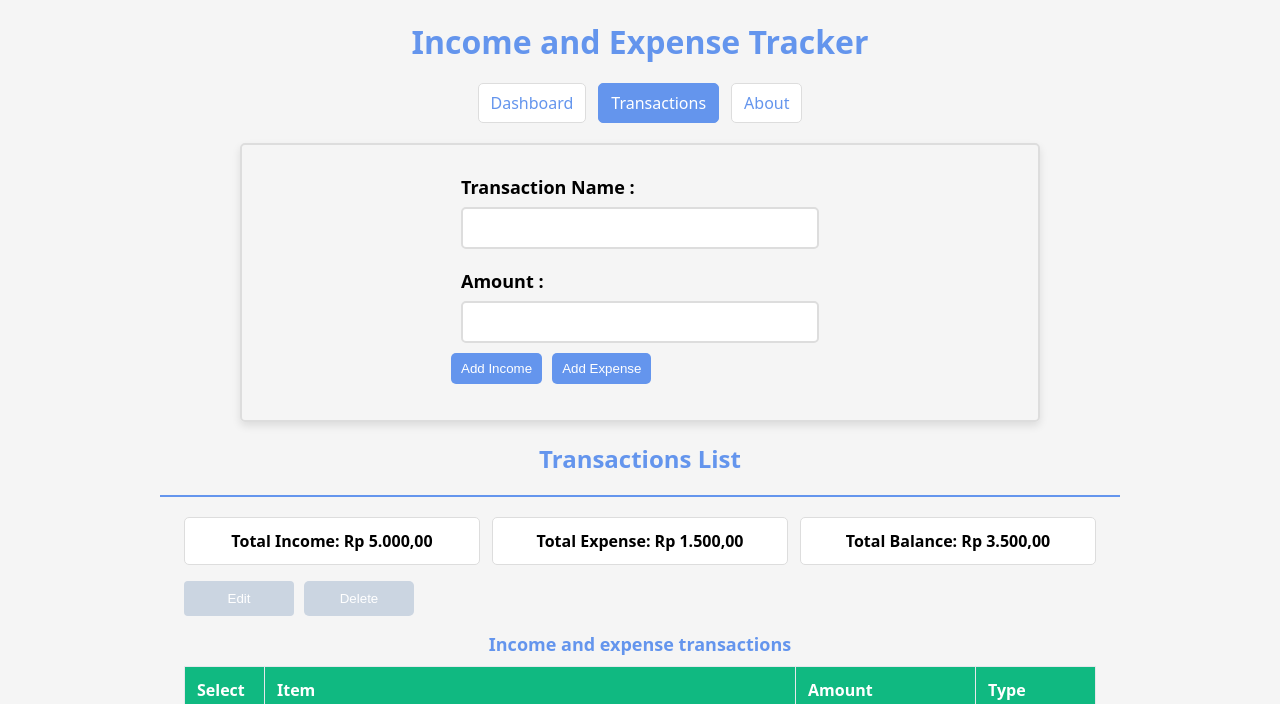
adds an income transaction and shows a success message
Type "Bonus" into the field labelled "Transaction Name :" at (640, 228), box top-left (461, 207), bottom-right (819, 249)
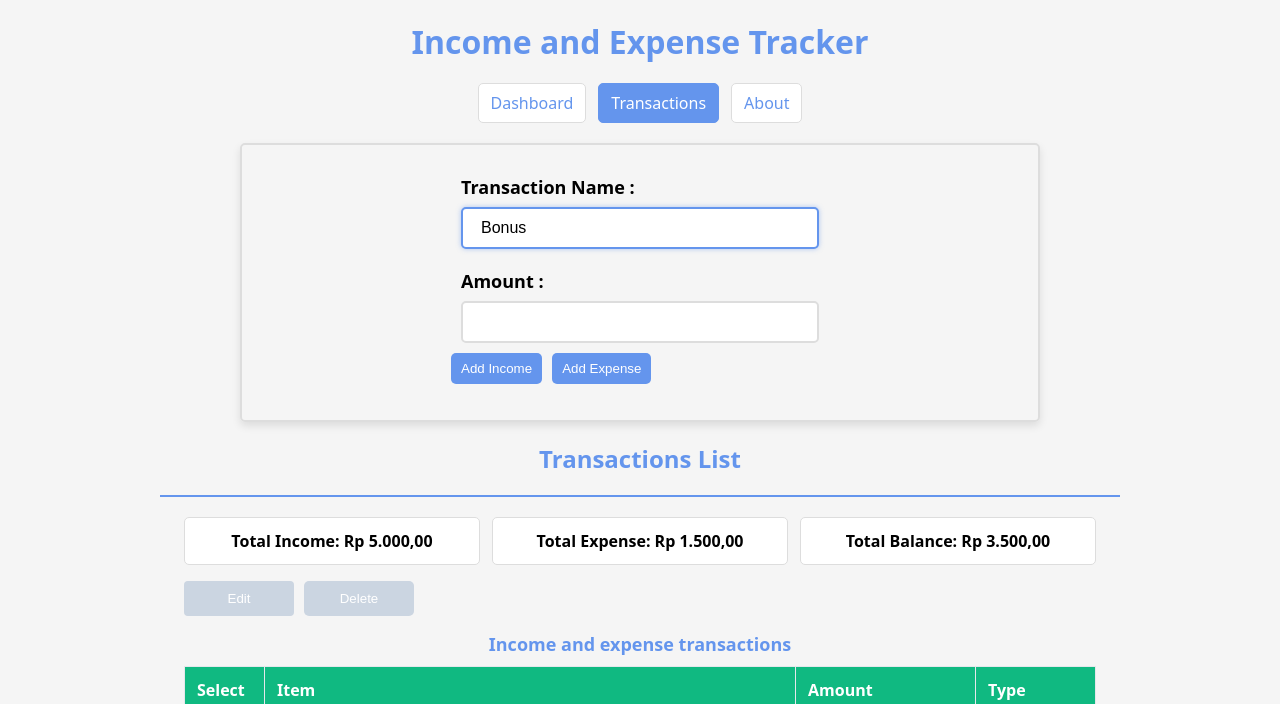
Type "1000" into the number field labelled "Amount :" at (640, 322), box top-left (461, 301), bottom-right (819, 343)
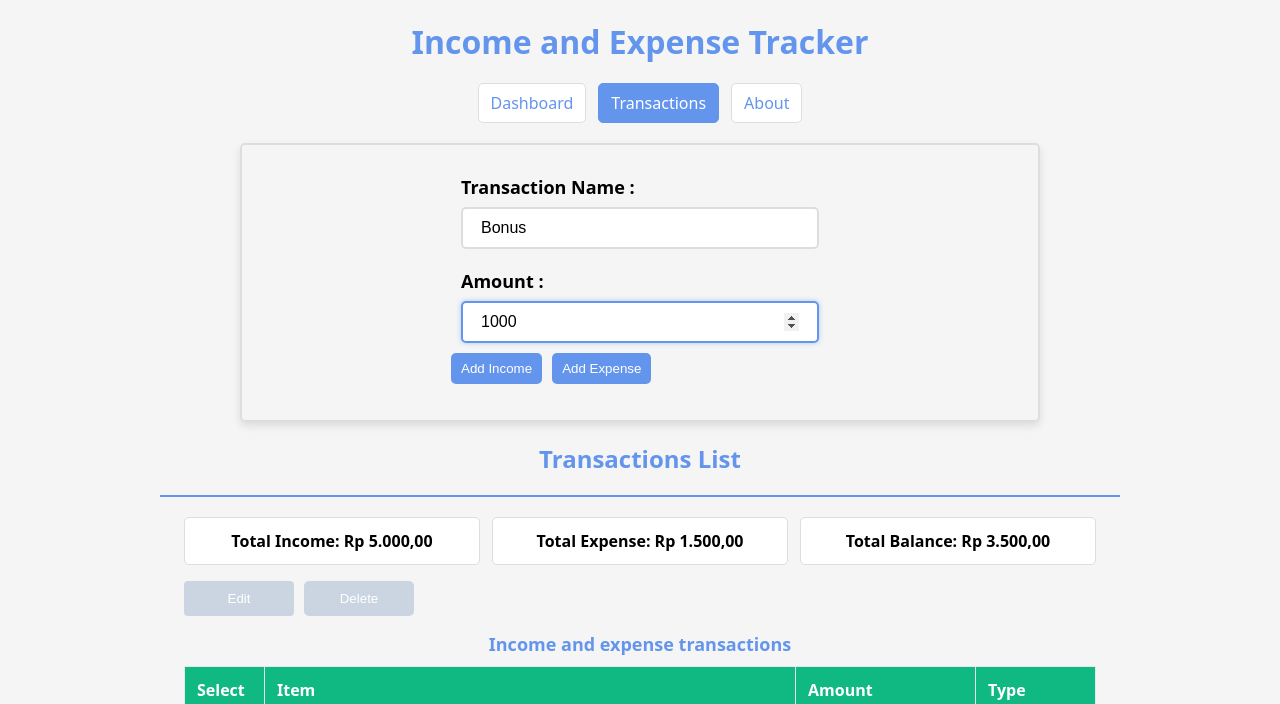
Click the button "Add Income" at (497, 368), box top-left (451, 353), bottom-right (542, 384)
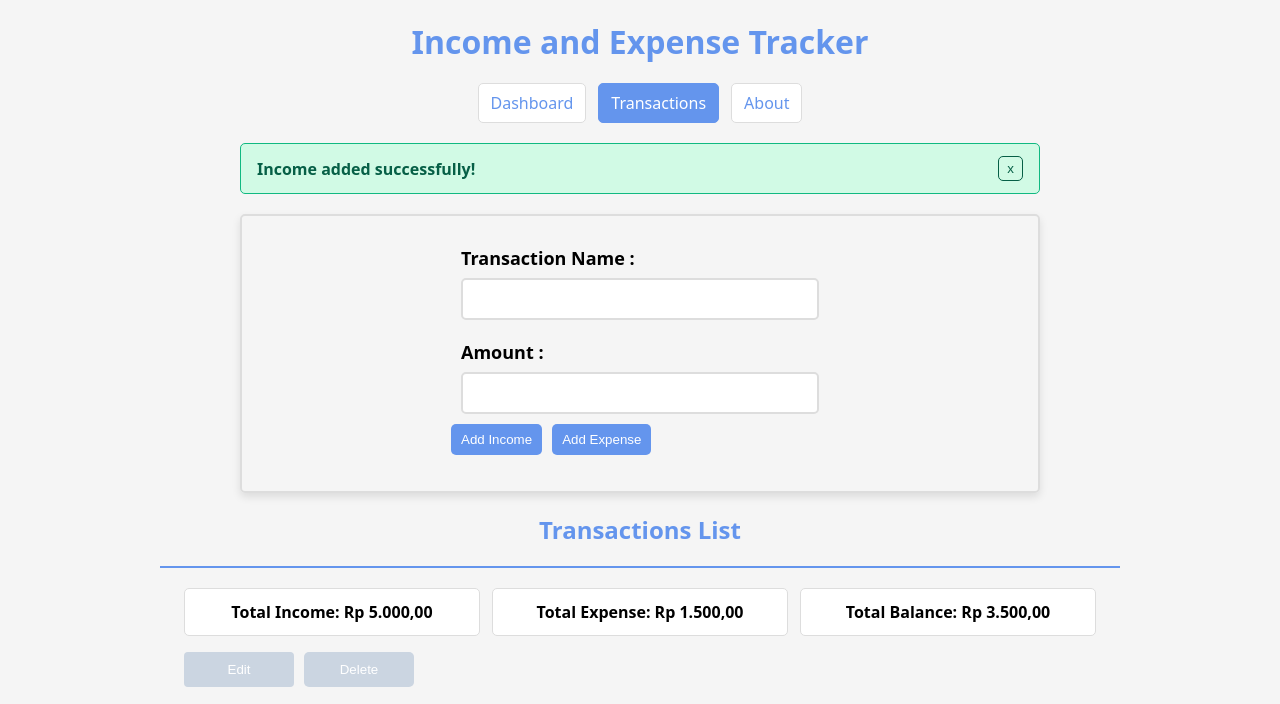
Check: the text "Income added successfully!" is shown, box top-left (257, 158), bottom-right (475, 180)
Check: the message "Income added successfully! x" is shown, box top-left (240, 143), bottom-right (1040, 194)
